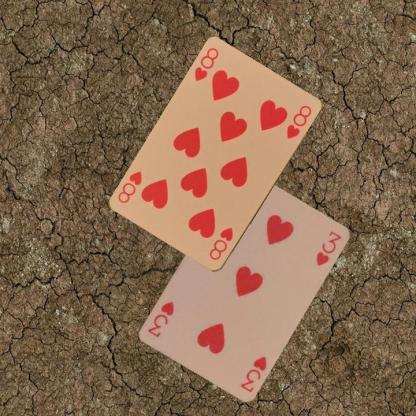3h: (238, 353, 268, 393)
8h: (192, 45, 221, 84), (206, 224, 235, 262)
